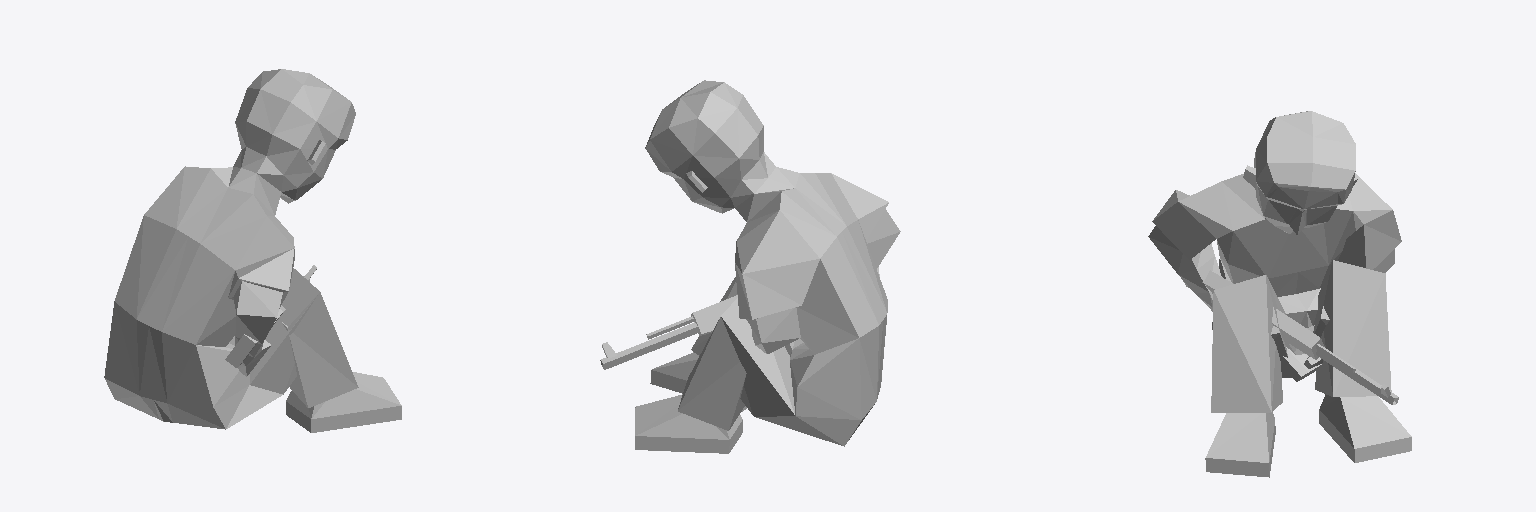
Rendered from player_male_rolling_4.obj.
3 renders of one model, left to right at view 1: azimuth 30°, elevation 25°; view 2: azimuth 150°, elevation 25°; view 3: azimuth 270°, elevation 25°, orthographic.
Bounding box in the file's own units: 0.7523 × 0.9684 × 0.6993.